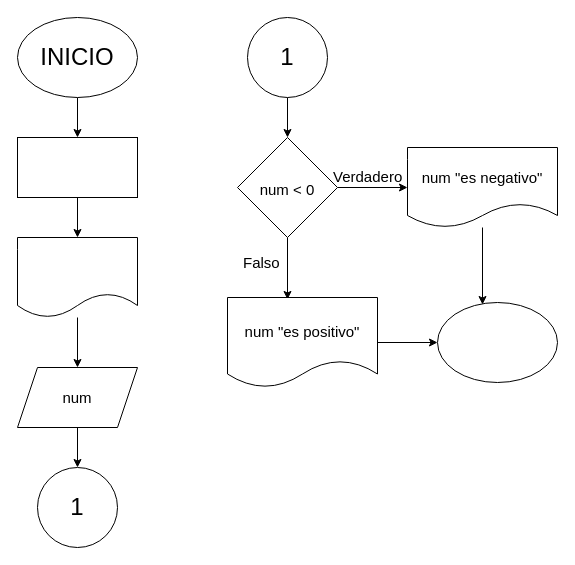
Some shapes in this 575 by 565 pixel diagram are drawn without their labels. Here are the shapes that lost their labels. From the top down, the centre of each, then its label:
[77,167]: num=0
[77,277]: "Ingresa un número"
[497,342]: FIN
